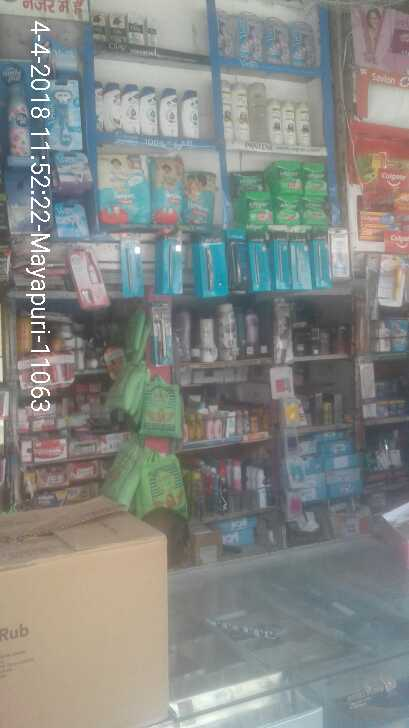venus: (234, 10, 260, 61), (288, 22, 315, 68), (260, 18, 286, 61), (218, 10, 234, 56)
